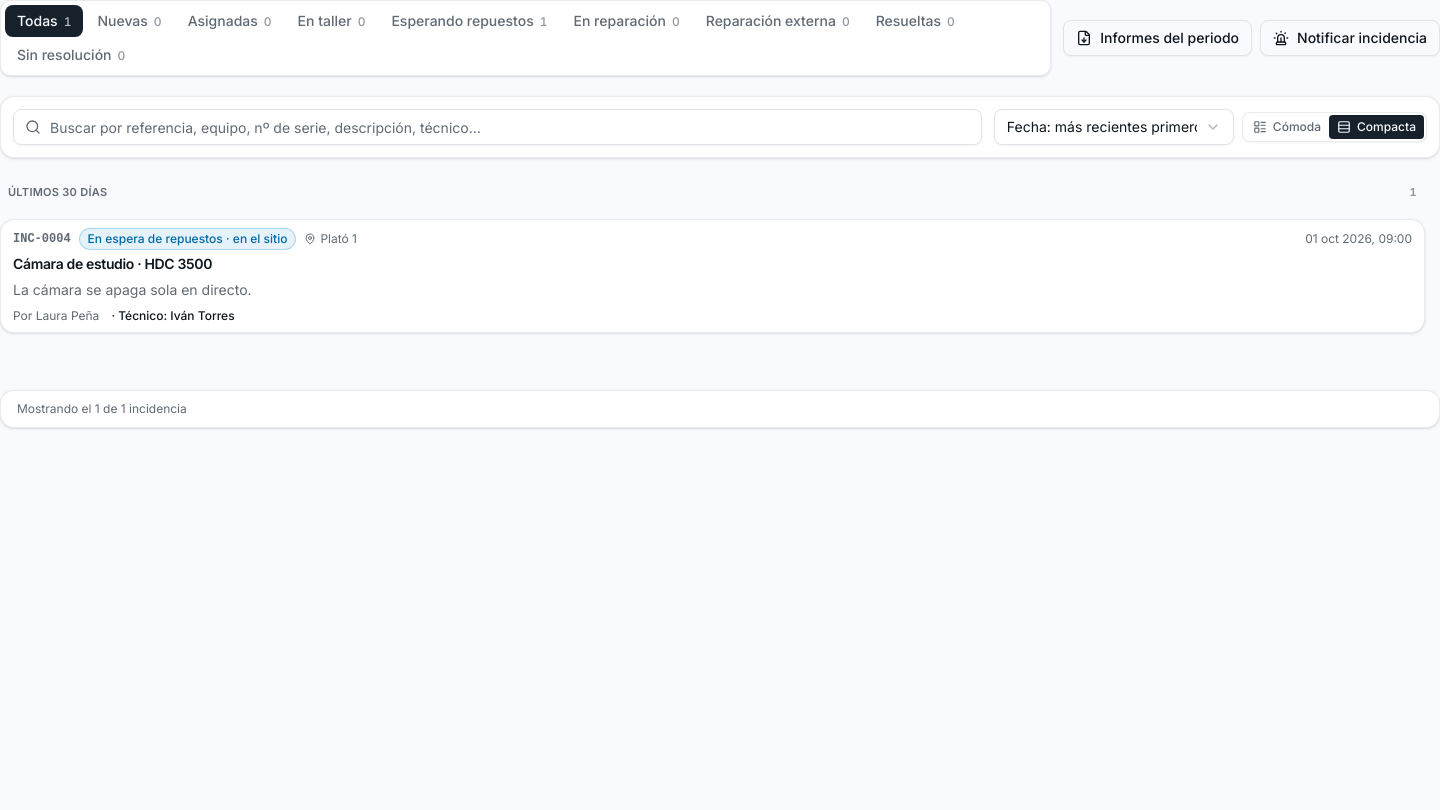
ficha de la incidencia — peticiones de material › cada línea dice qué pieza es, cuántas se pidieron y si ya se entregó
The image size is (1440, 810).
Click the button that starts with "INC-0004" at (712, 276), box [0, 218, 1425, 332]
(page scrolled)
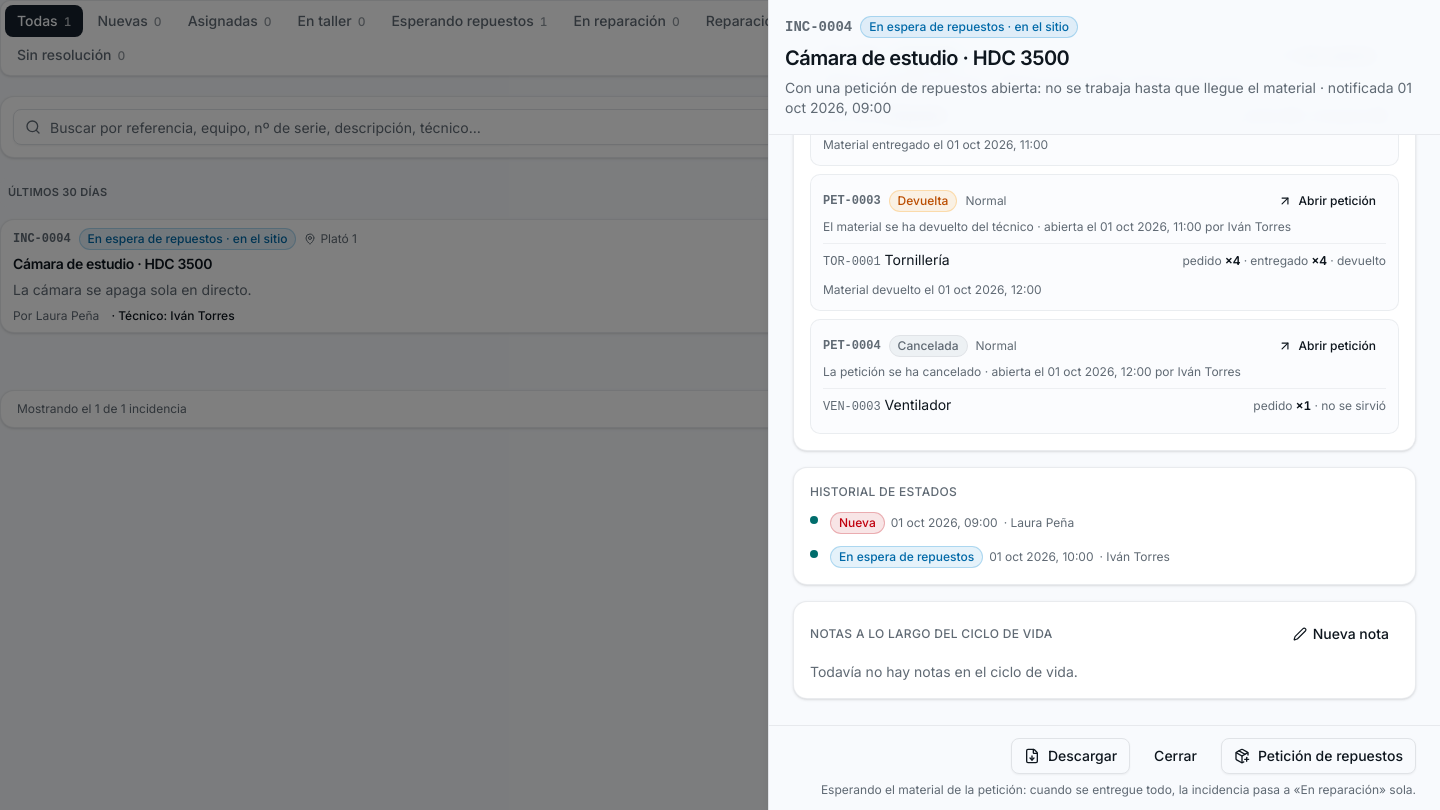
Check: the list item "DIS-0102 Disipador pedido ×3 · entregado ×3" is shown, box [823, 106, 1386, 124]
Check: the list item "TOR-0001 Tornillería pedido ×4 · entregado ×4 · devuelto" is shown, box [823, 250, 1386, 268]
Check: the list item "VEN-0003 Ventilador pedido ×1 · no se sirvió" is shown, box [823, 396, 1386, 414]
